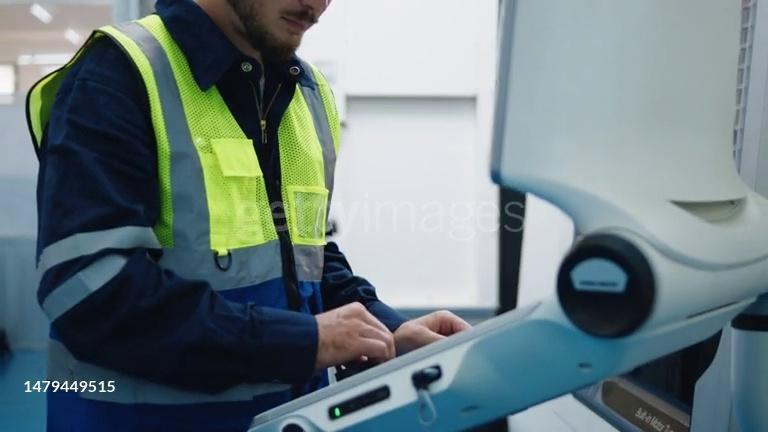person: (24, 0, 473, 431)
